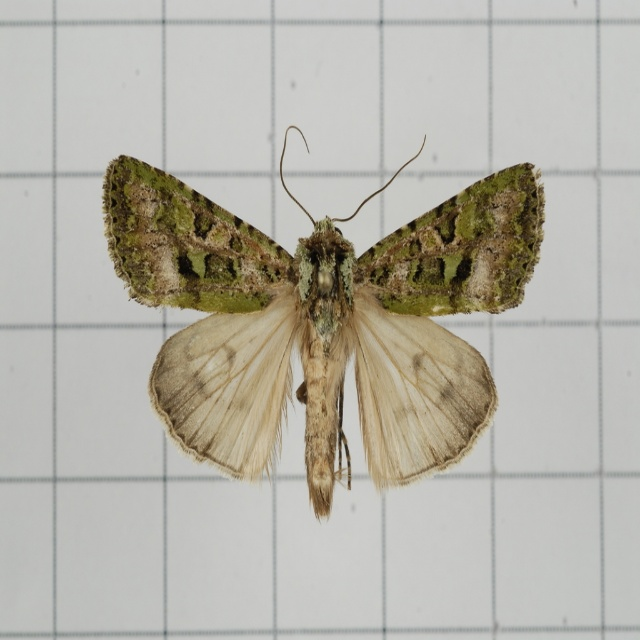Butterfly: (103, 122, 544, 521)
